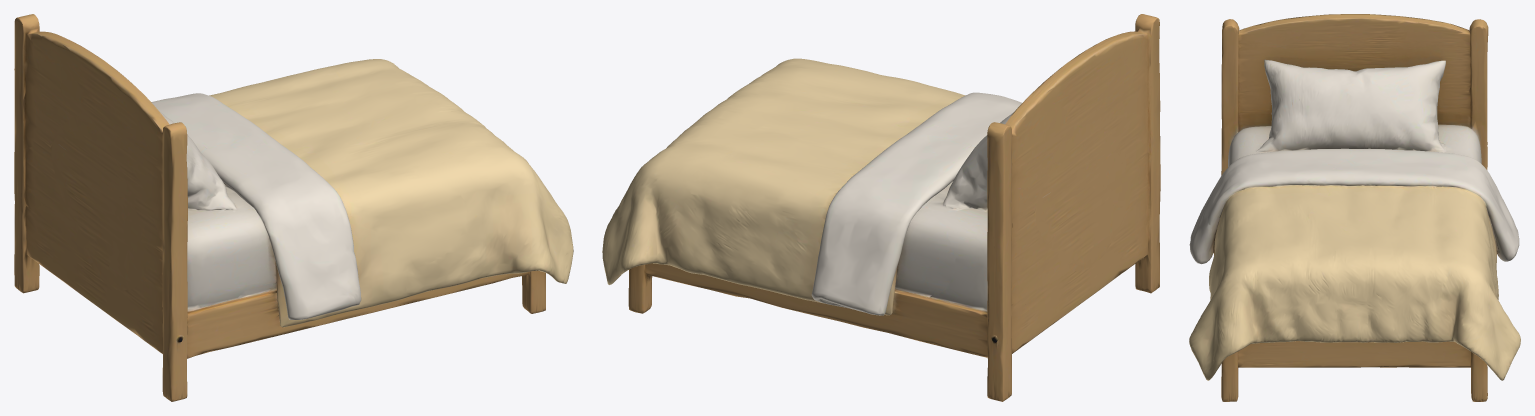
File: DefaultBed.fbx
3 views of the same model, side by side, from view 1: azimuth 30°, elevation 25°; view 2: azimuth 150°, elevation 25°; view 3: azimuth 270°, elevation 25° (orthographic). The views are drawn at different scales.
Visible parts, largest first — view 1: tripo_node_de6941a6; view 2: tripo_node_de6941a6; view 3: tripo_node_de6941a6.
Part boxes in pixels (left/top/right/bottom): tripo_node_de6941a6: left=14, top=14, right=573, bottom=401; tripo_node_de6941a6: left=602, top=14, right=1160, bottom=401; tripo_node_de6941a6: left=1189, top=14, right=1520, bottom=401.
Bounding box in the file's own units: 0.981 × 0.6497 × 0.8275.
